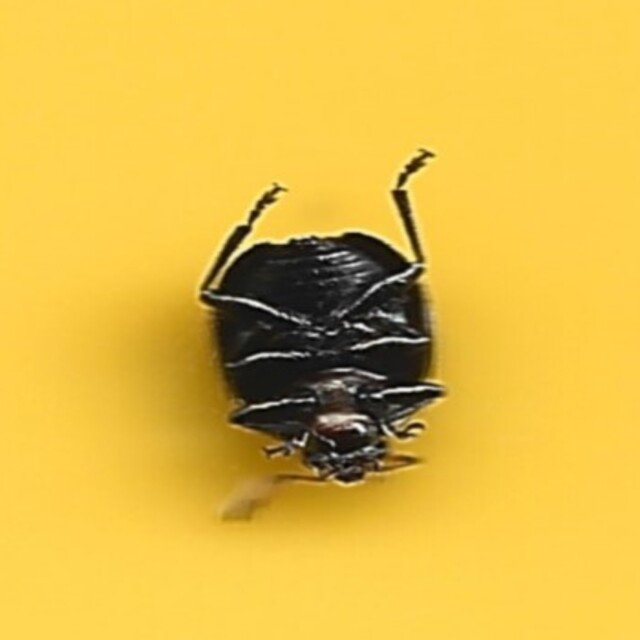Coleoptera: (183, 146, 457, 494)
